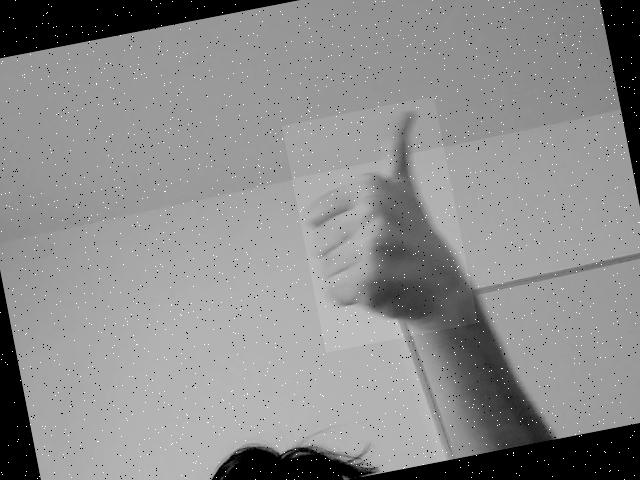good: (297, 103, 467, 334)
